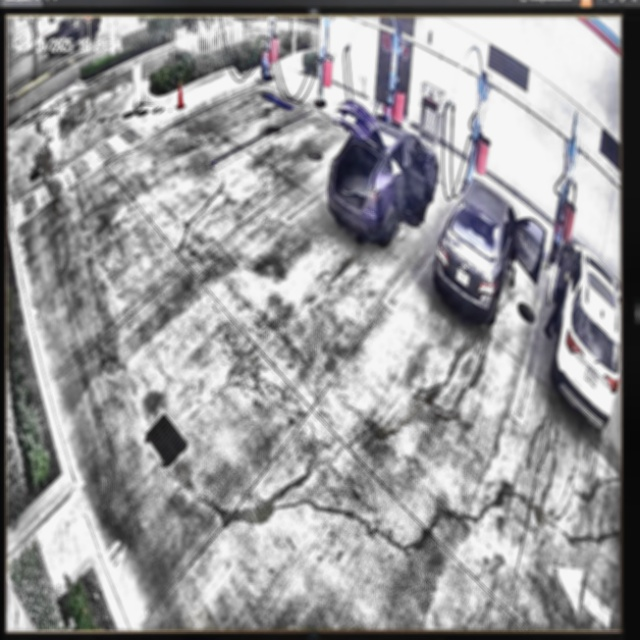Car: (329, 97, 441, 244), (437, 179, 544, 327)
